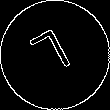L_SE: (29, 25, 81, 85)
